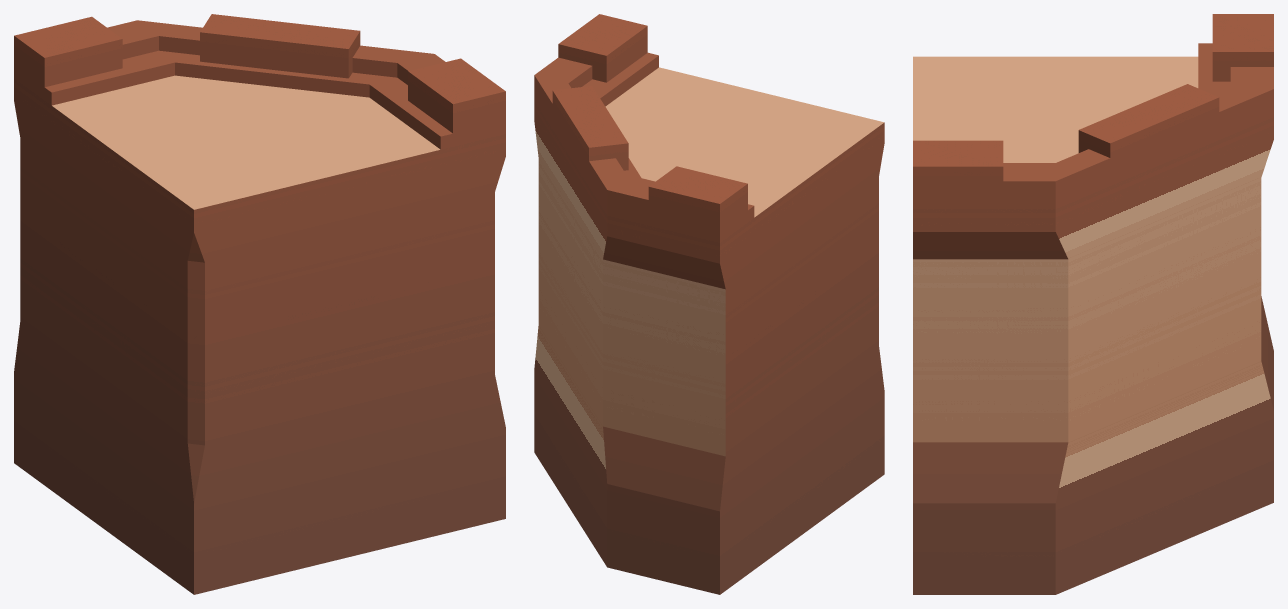
Rendered from wall-corner-slant.glb.
3 views of the same model, side by side, from view 1: azimuth 30°, elevation 25°; view 2: azimuth 150°, elevation 25°; view 3: azimuth 270°, elevation 25° (orthographic). The views are drawn at different scales.
Parts seen in each view (by area): view 1: wall-corner-slant; view 2: wall-corner-slant; view 3: wall-corner-slant.
Boxes of the visible parts, left/top/right/bottom form: wall-corner-slant: left=14, top=14, right=505, bottom=594; wall-corner-slant: left=534, top=14, right=884, bottom=594; wall-corner-slant: left=913, top=14, right=1273, bottom=594.
Bounding box in the file's own units: 3 × 3.93 × 3.
Materials: 1 (1 with a texture image).
